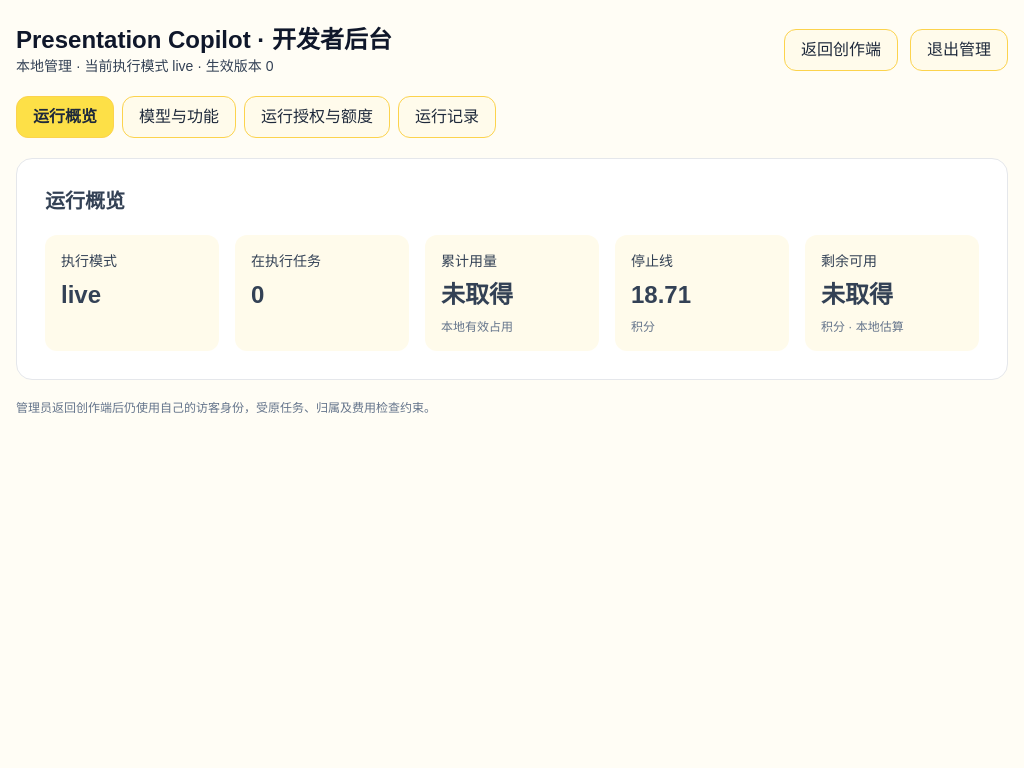
Test case: daily use removes only expiry and retains balance and limits in the draft
Expected: the element named "运行概览指标" is shown, [45,235,979,351]
Click the button "运行授权与额度" at [317, 117], box [244,96,390,138]
(page scrolled)
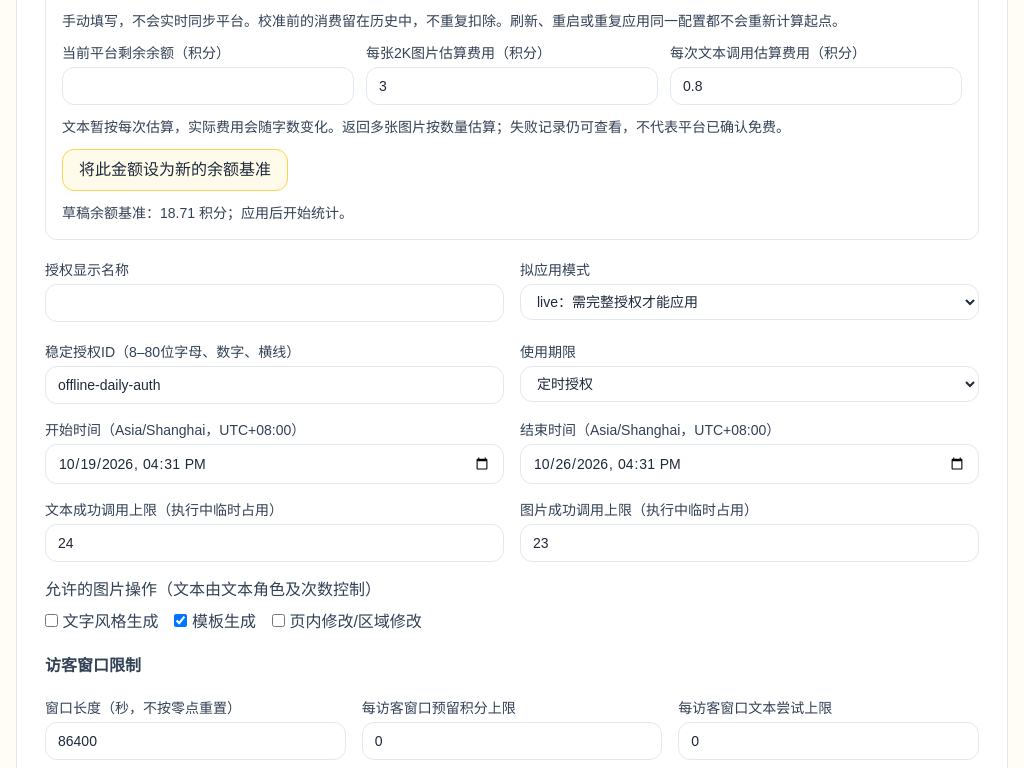
Result: the field labelled "结束时间（Asia/Shanghai，UTC+08:00）" is shown at [520,444,979,484]
Select "日常使用（不设到期时间）" in the dropdown labelled "使用期限" at [750, 384], box [520,366,979,402]
(page scrolled)
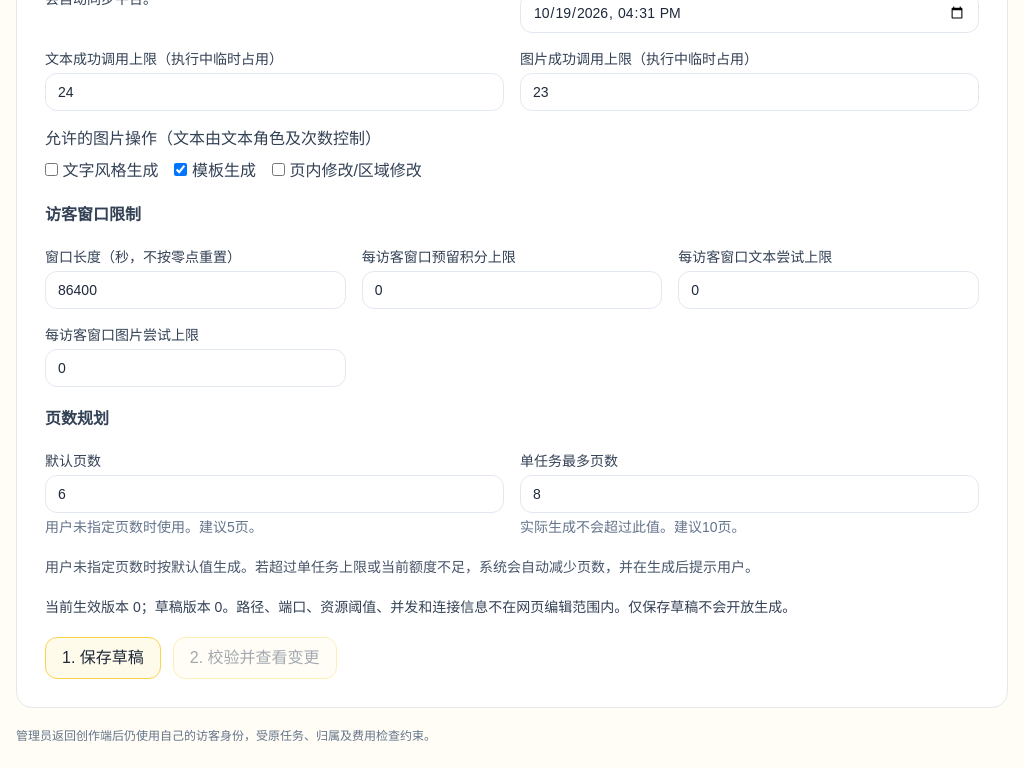
Result: the text labelled "结束时间" is gone
Click the button "1. 保存草稿" at [103, 658], box [45,637,161,679]
(page scrolled)
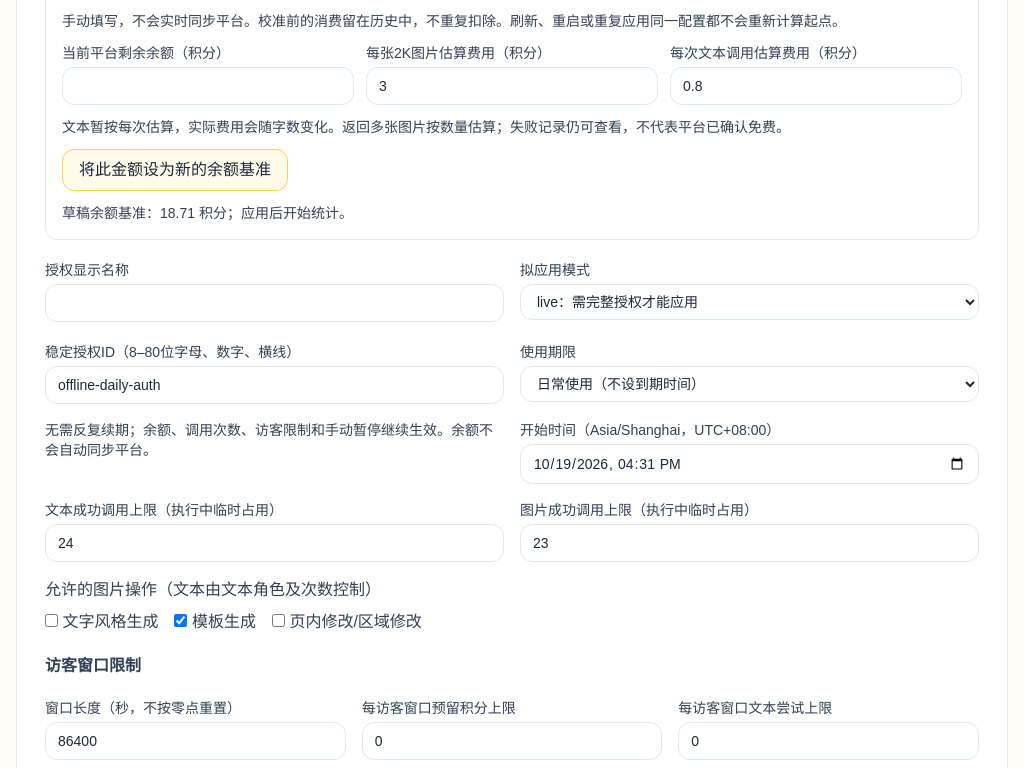
Select "定时授权" in the dropdown labelled "使用期限" at [750, 384], box [520,366,979,402]
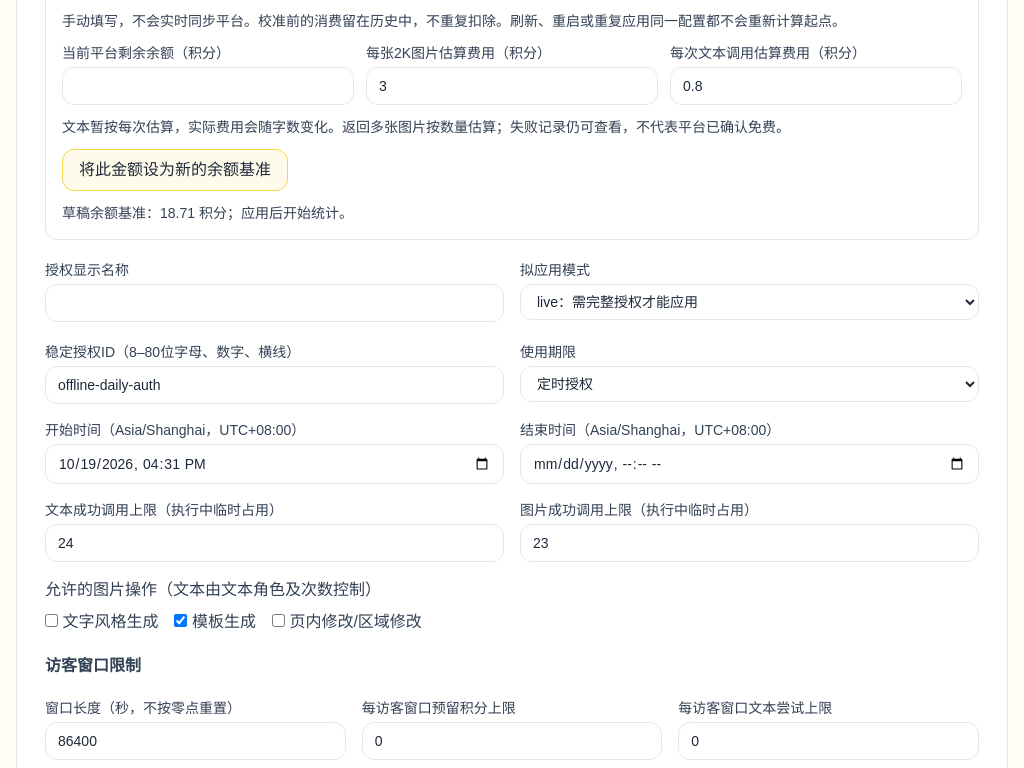
Result: the field labelled "结束时间（Asia/Shanghai，UTC+08:00）" is empty at [520,444,979,484]
